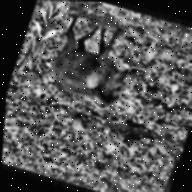boar: (40, 13, 152, 114)
